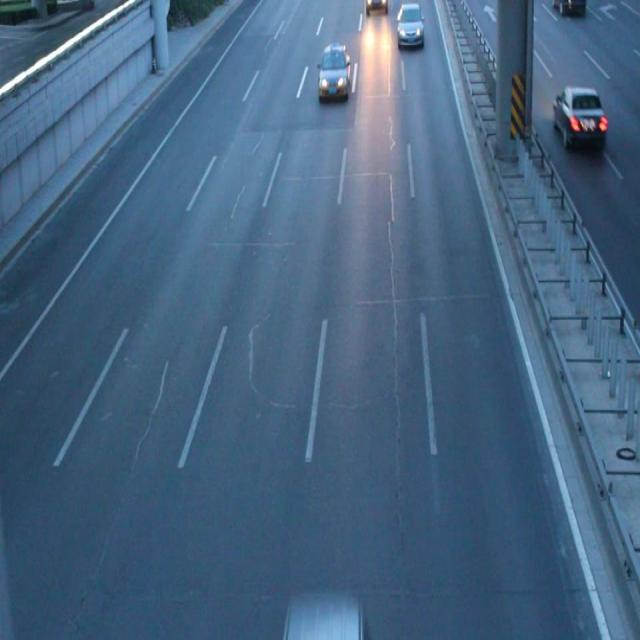car: (317, 44, 351, 101), (396, 1, 423, 46)
